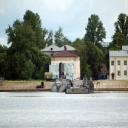submarine: (52, 64, 70, 94)
